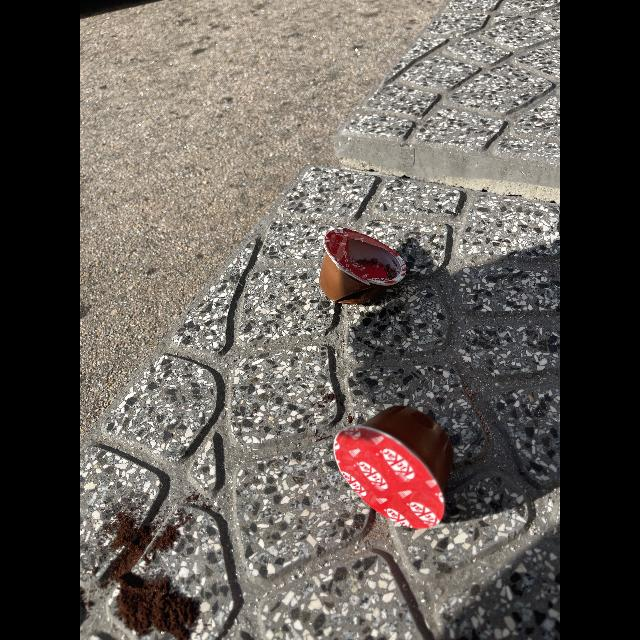damaged_capsule: (318, 224, 426, 320)
intact_capsule: (324, 402, 468, 542)
